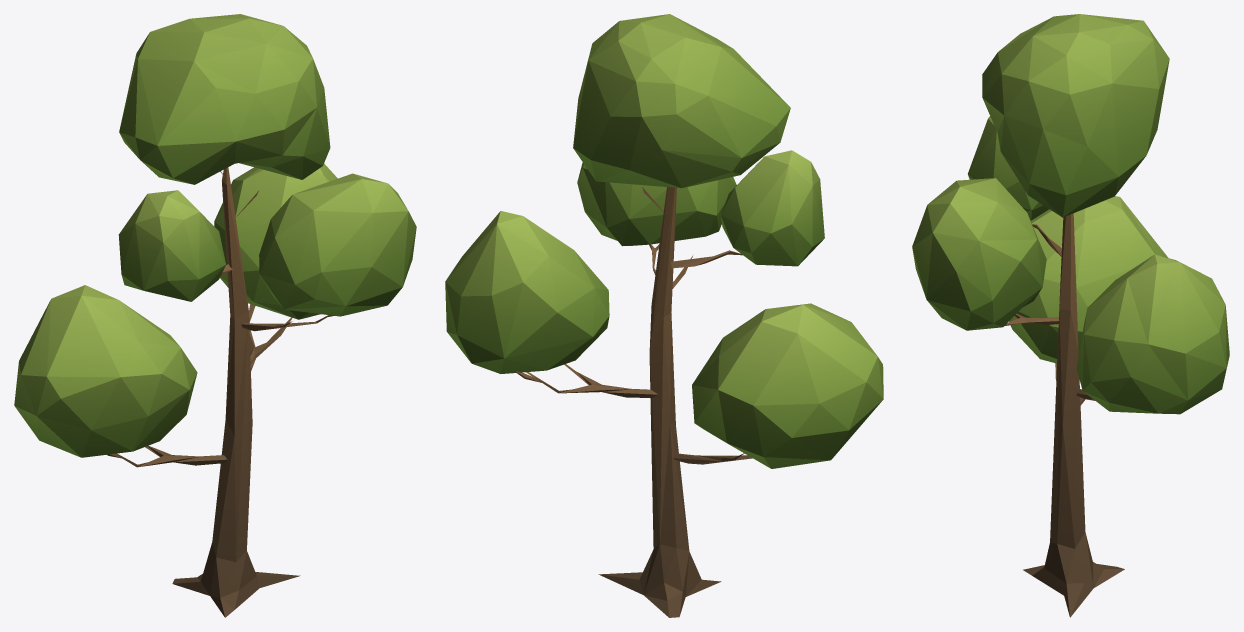
Rendered from tree_11.glb.
3 renders of one model, left to right at view 1: azimuth 30°, elevation 25°; view 2: azimuth 150°, elevation 25°; view 3: azimuth 270°, elevation 25°, orthographic.
Parts seen in each view (by area): view 1: Spring_Tree_11_LOD1; view 2: Spring_Tree_11_LOD1; view 3: Spring_Tree_11_LOD1.
Boxes of the visible parts, box(x1,y1,x2,y2) form: Spring_Tree_11_LOD1: box(14, 14, 416, 617); Spring_Tree_11_LOD1: box(445, 14, 883, 617); Spring_Tree_11_LOD1: box(912, 14, 1229, 617).
Bounding box in the file's own units: 7.57 × 10.91 × 5.58.
Materials: 1 (1 with a texture image).
